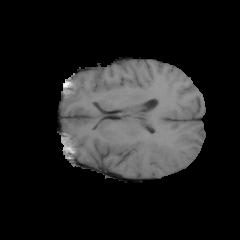glioma: (135, 133, 177, 171)
